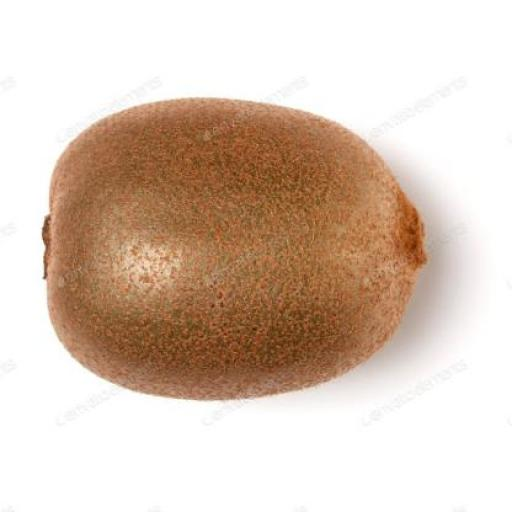kiwi: (26, 88, 424, 412)
